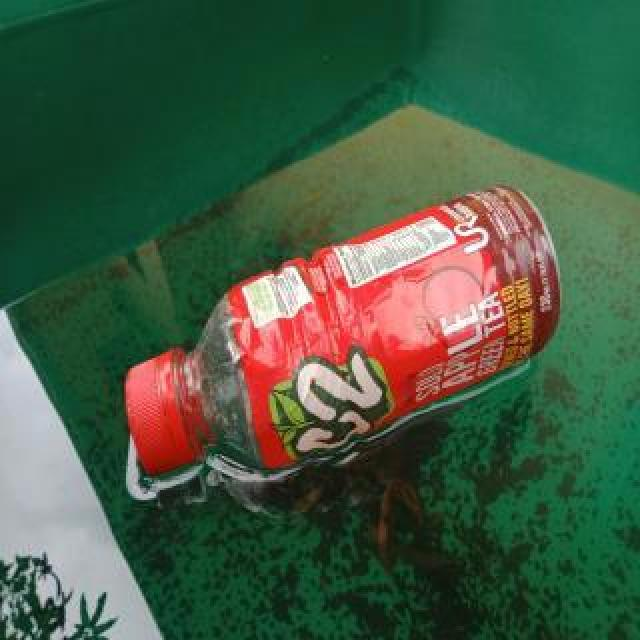bottle: (119, 178, 565, 484)
